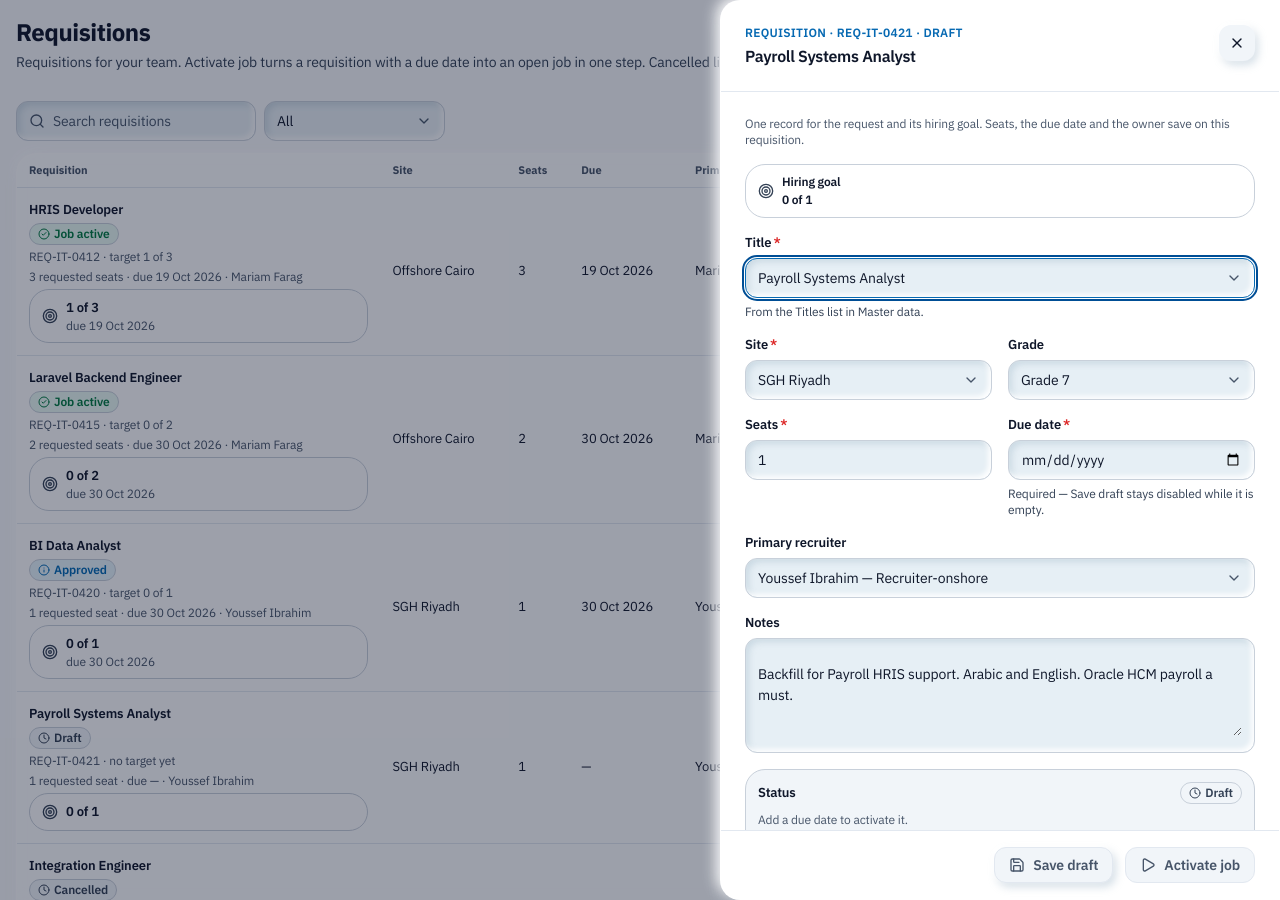
Test case: M03 requisition drawer › draft edit → PATCH; DUE_DATE_REQUIRED by code lands on the field
Expected: the text box labelled "Notes" holds "Backfill for Payroll HRIS support. Arabic and English. Oracle HCM payroll a must.", [758,655,1242,736]
Type "2099-11-20" into the date field labelled "Due date*" at (1132, 460), box [1021,441,1242,479]
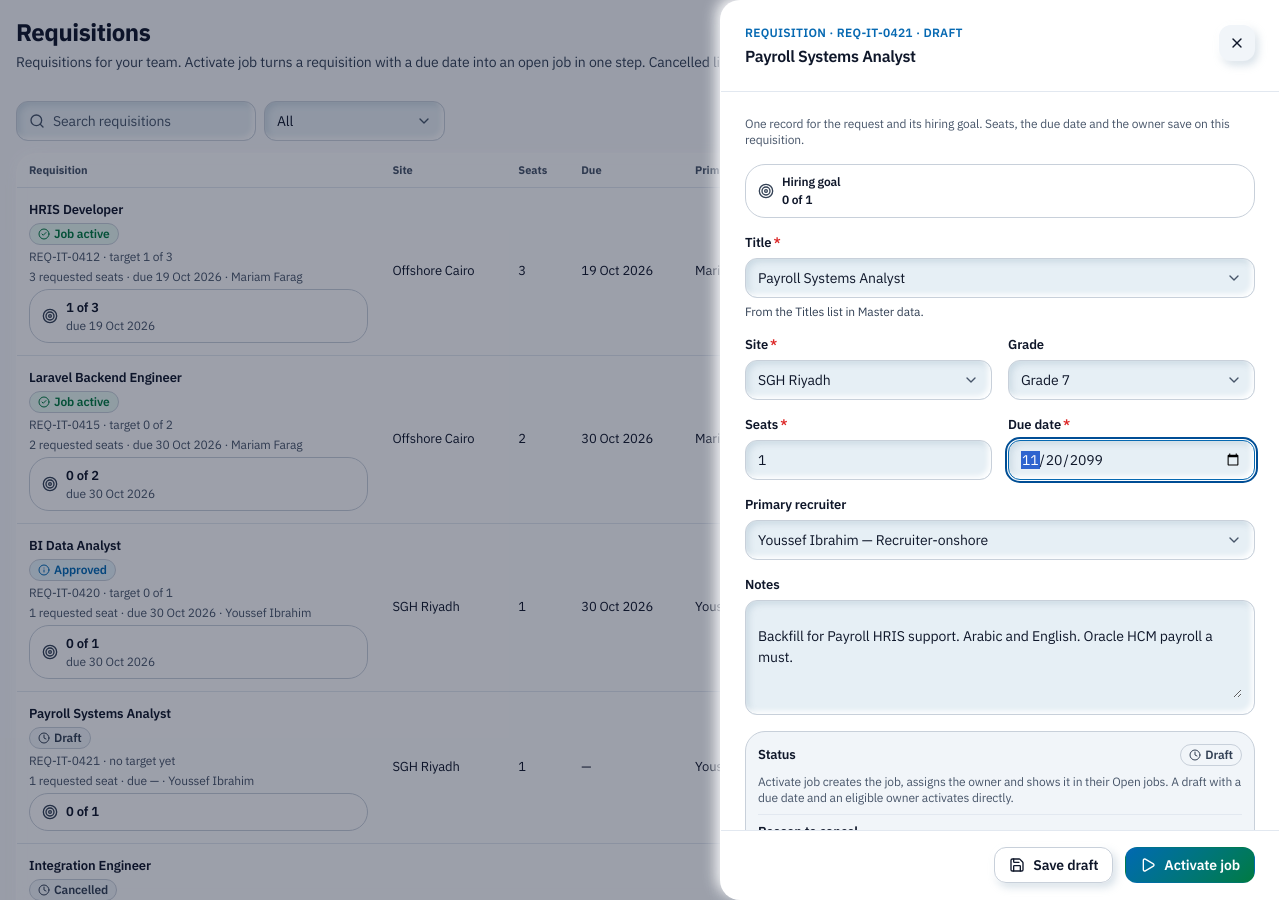
Click the button "Activate job" at (1190, 865), box [1125,847,1255,883]
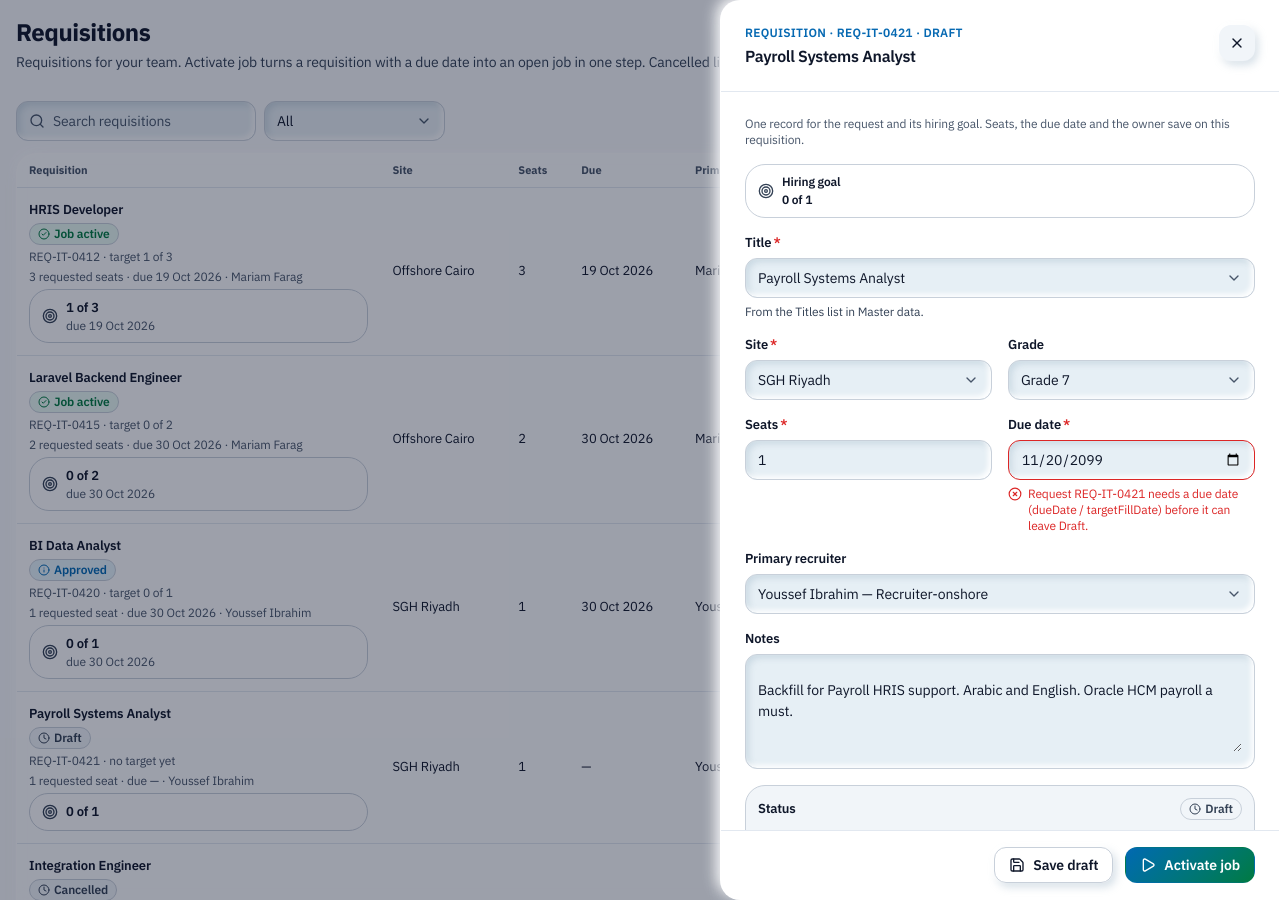
Now the text "needs a due date" is shown, box [1028,486,1238,533]
